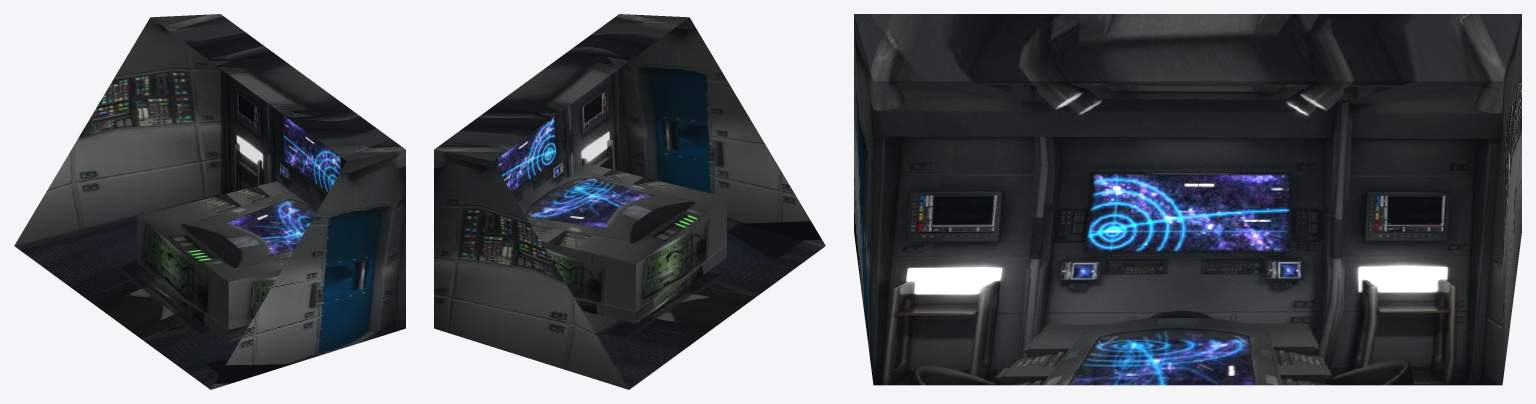
File: Room Slanted.fbx
The picture shows the model from 3 angles, left to right: view 1: azimuth 30°, elevation 25°; view 2: azimuth 150°, elevation 25°; view 3: azimuth 270°, elevation 25°; orthographic projection. The views are drawn at different scales.
Parts seen in each view (by area): view 1: WRT_LOD0; view 2: WRT_LOD0; view 3: WRT_LOD0.
Part boxes in pixels (x1,y1,x2,y2): WRT_LOD0: (14,14,405,389); WRT_LOD0: (434,14,825,389); WRT_LOD0: (854,14,1521,385).
Size of what is drawn, in the model's own units: 200 by 186 by 339.
2 materials, 1 textured.
